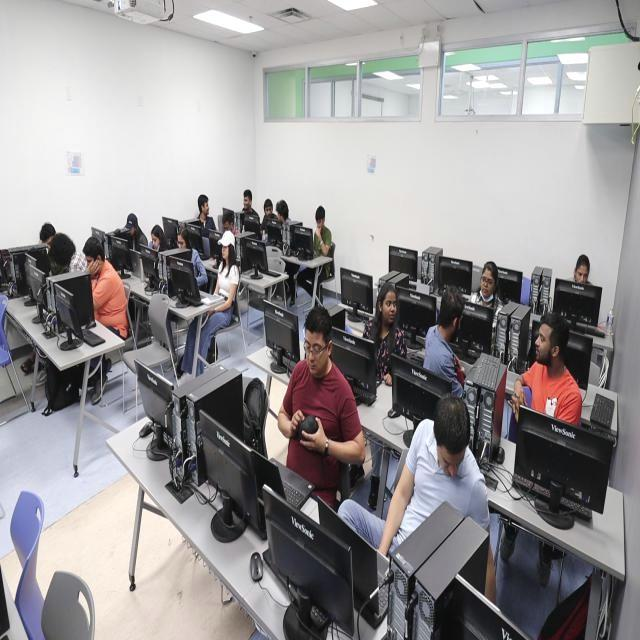Looking away: (436, 436, 464, 480), (304, 327, 326, 375), (534, 324, 556, 366), (448, 301, 464, 341), (382, 288, 396, 324), (480, 266, 494, 298), (574, 262, 588, 286), (85, 253, 98, 275), (44, 232, 56, 250), (314, 211, 326, 228), (150, 232, 160, 250), (176, 234, 186, 249), (221, 243, 230, 259), (126, 223, 135, 238), (242, 195, 250, 210), (202, 200, 210, 215), (222, 220, 232, 232), (264, 205, 272, 218), (276, 209, 284, 222)
